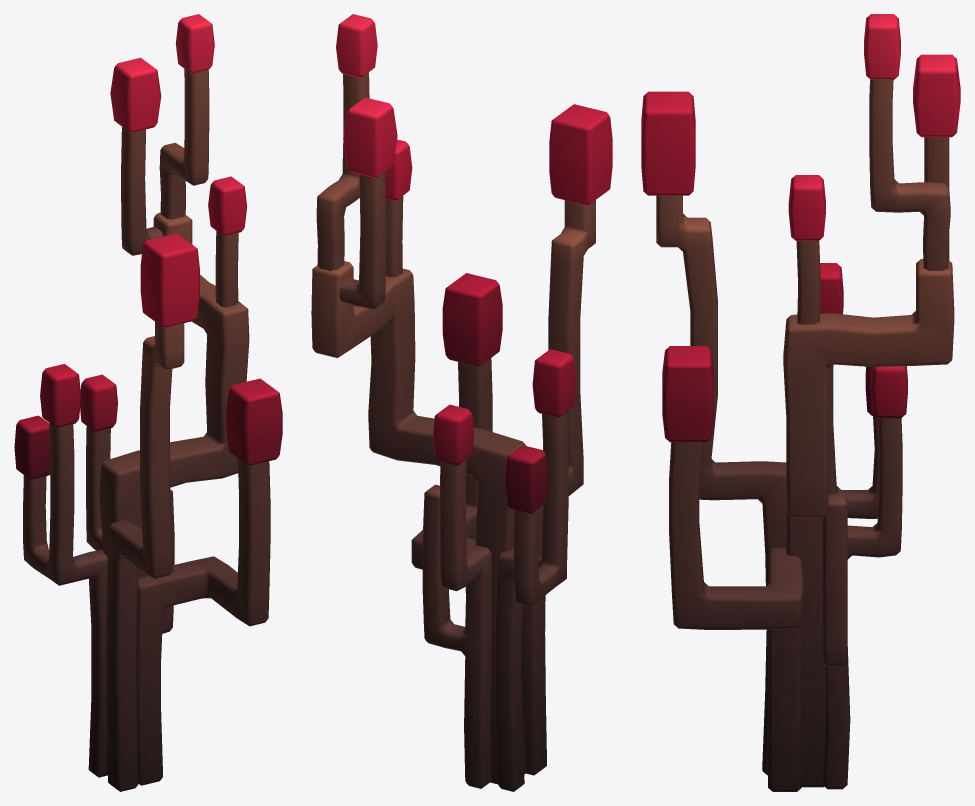
The model's file is shrub_01.fbx.
3 views of the same model, side by side, from view 1: azimuth 30°, elevation 25°; view 2: azimuth 150°, elevation 25°; view 3: azimuth 270°, elevation 25° (orthographic). The views are drawn at different scales.
Visible parts, largest first — view 1: shrub_01; view 2: shrub_01; view 3: shrub_01.
Part boxes in pixels (bbox=[...]): shrub_01: bbox=[14, 14, 282, 791]; shrub_01: bbox=[311, 14, 612, 791]; shrub_01: bbox=[641, 14, 960, 791].
Size of the model in its own units: 199 by 711 by 251.
